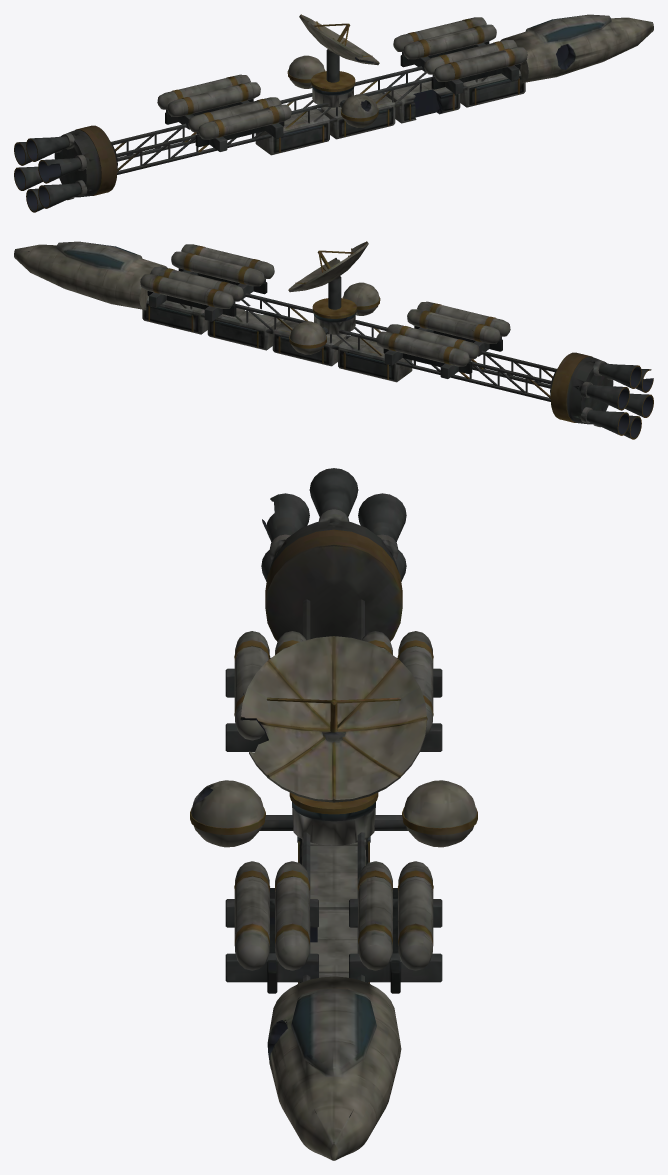
Rendered from spine-wrecked.glb.
3 renders of one model, top to bottom at view 1: azimuth 30°, elevation 25°; view 2: azimuth 150°, elevation 25°; view 3: azimuth 270°, elevation 25°, orthographic. The views are drawn at different scales.
Parts seen in each view (by area): view 1: spine-wrecked; view 2: spine-wrecked; view 3: spine-wrecked.
Boxes of the visible parts, x1,y1,x2,y2 form: spine-wrecked: (14,14,653,212); spine-wrecked: (14,241,653,439); spine-wrecked: (190,468,477,1160).
Size of the model in its own units: 1 by 0.1902 by 0.2009.
Materials: 1 (1 with a texture image).
